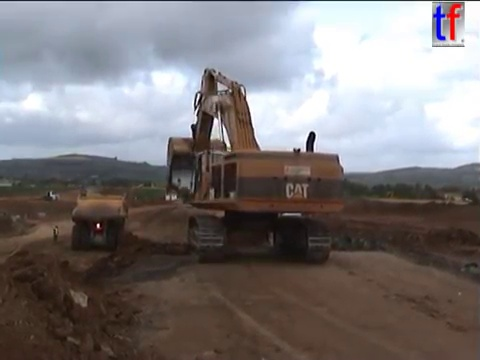excavator: (162, 65, 349, 265)
truck: (69, 189, 129, 253), (179, 182, 199, 205), (41, 189, 60, 201)
worker: (50, 223, 61, 245)
